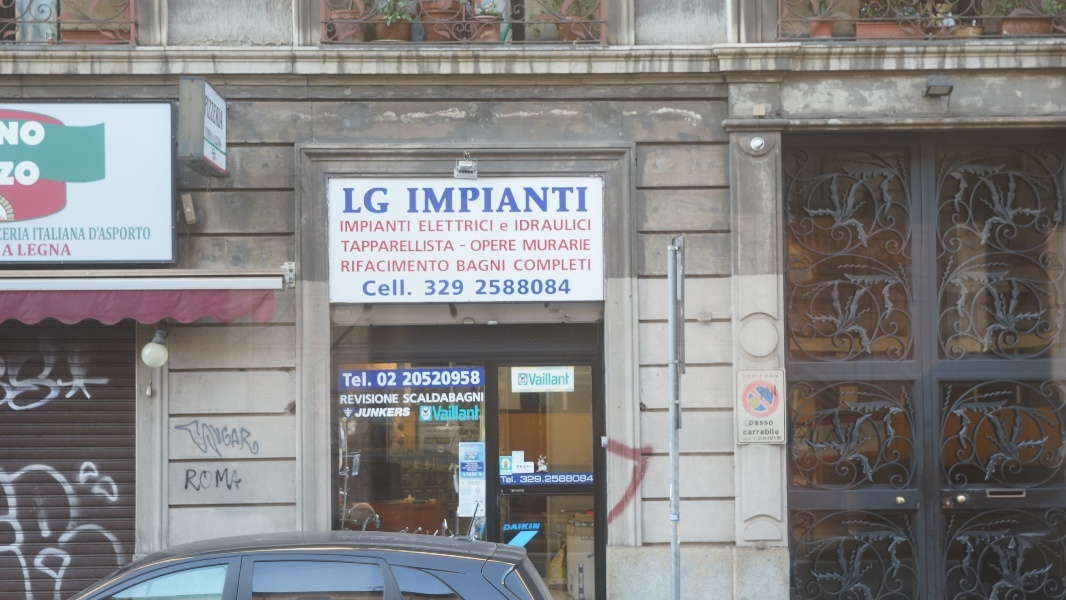text: (209, 91, 224, 151), (193, 419, 208, 461), (209, 419, 224, 461), (225, 419, 240, 461), (241, 419, 256, 461), (177, 463, 192, 500), (193, 463, 208, 500), (209, 463, 224, 500), (225, 463, 240, 500), (417, 185, 432, 218), (433, 185, 448, 218), (449, 185, 464, 218), (465, 185, 480, 218), (481, 185, 496, 218), (497, 185, 512, 218), (513, 185, 528, 218), (529, 185, 544, 218), (545, 185, 560, 218), (561, 185, 576, 218), (577, 185, 592, 218), (181, 419, 192, 461), (353, 185, 368, 215), (369, 185, 384, 215), (18, 157, 32, 188), (404, 185, 416, 218), (339, 185, 352, 215), (33, 120, 46, 147), (33, 157, 43, 188), (203, 91, 208, 151), (241, 463, 249, 500), (433, 403, 448, 422), (449, 403, 464, 422), (465, 403, 480, 422), (22, 120, 32, 147), (577, 258, 593, 274), (433, 279, 448, 296), (449, 279, 464, 296), (369, 279, 384, 296), (385, 279, 400, 296), (353, 371, 368, 388), (369, 371, 384, 388), (385, 371, 400, 388), (401, 371, 416, 388), (417, 371, 432, 388), (433, 371, 448, 388), (449, 371, 464, 388), (465, 371, 480, 388), (513, 258, 528, 274), (529, 258, 544, 274), (545, 258, 560, 274), (561, 258, 576, 274), (481, 279, 496, 295), (497, 279, 512, 295), (513, 279, 528, 295), (529, 279, 544, 295), (545, 279, 560, 295), (529, 218, 544, 233), (545, 218, 560, 233), (561, 218, 576, 233), (577, 218, 592, 233), (529, 239, 544, 254), (545, 239, 560, 254), (561, 239, 576, 254), (577, 239, 592, 254), (97, 226, 112, 241), (113, 226, 128, 241), (129, 226, 144, 241), (401, 279, 414, 296), (353, 220, 368, 234), (369, 220, 384, 234), (385, 220, 400, 234), (353, 260, 368, 274), (369, 260, 384, 274), (385, 260, 400, 274), (401, 260, 416, 274), (417, 260, 432, 274), (433, 260, 448, 274), (433, 219, 448, 233), (449, 219, 464, 233), (465, 219, 480, 233), (514, 218, 528, 233), (465, 259, 480, 273), (481, 259, 496, 273), (369, 405, 384, 419), (385, 405, 400, 419), (465, 462, 480, 476), (17, 243, 32, 257), (33, 243, 48, 257), (49, 243, 64, 257), (17, 227, 32, 241), (33, 227, 48, 241), (49, 227, 64, 241), (65, 227, 80, 241), (418, 219, 432, 233), (354, 405, 368, 419), (529, 373, 544, 386), (545, 373, 560, 386), (417, 390, 432, 403), (433, 390, 448, 403), (449, 390, 464, 403), (465, 390, 480, 403), (481, 219, 494, 233), (481, 240, 496, 252), (497, 240, 512, 252), (403, 390, 416, 403), (340, 220, 352, 234), (340, 260, 352, 274), (4, 227, 16, 241), (353, 241, 368, 252), (369, 241, 384, 252), (385, 241, 400, 252), (401, 241, 416, 252), (417, 241, 432, 252), (433, 241, 448, 252), (561, 279, 571, 295), (401, 220, 412, 234), (343, 371, 352, 388), (385, 185, 390, 215), (353, 394, 368, 404), (369, 394, 384, 404), (497, 259, 507, 273), (385, 394, 399, 404), (401, 405, 411, 419), (500, 222, 512, 233), (561, 373, 571, 386), (577, 475, 593, 483), (7, 243, 16, 257), (341, 241, 352, 252), (340, 394, 352, 404), (513, 475, 528, 483), (529, 475, 544, 483), (545, 475, 560, 483), (561, 475, 576, 483), (513, 523, 528, 531), (425, 279, 432, 296), (456, 259, 464, 273), (433, 438, 449, 445), (471, 240, 480, 252), (753, 428, 768, 435), (753, 420, 768, 427), (362, 279, 368, 296), (500, 475, 512, 483), (522, 239, 528, 254), (90, 226, 96, 241), (529, 523, 540, 531), (257, 419, 259, 461), (65, 243, 71, 257), (475, 279, 480, 295), (145, 226, 150, 241), (753, 436, 768, 441), (753, 374, 768, 379), (769, 428, 779, 435), (81, 227, 86, 241), (449, 241, 455, 252), (769, 436, 782, 441), (504, 523, 512, 531), (743, 428, 752, 435), (225, 91, 226, 151), (481, 462, 485, 476), (742, 374, 752, 379), (769, 374, 779, 379), (461, 462, 464, 476), (426, 438, 432, 445), (744, 436, 752, 441), (481, 390, 484, 403), (513, 240, 516, 252), (517, 465, 528, 468), (465, 445, 480, 447), (449, 260, 451, 274), (769, 420, 773, 427), (749, 420, 752, 427), (460, 245, 464, 247), (461, 445, 464, 447), (481, 445, 484, 447), (529, 465, 531, 468), (465, 245, 466, 247)
